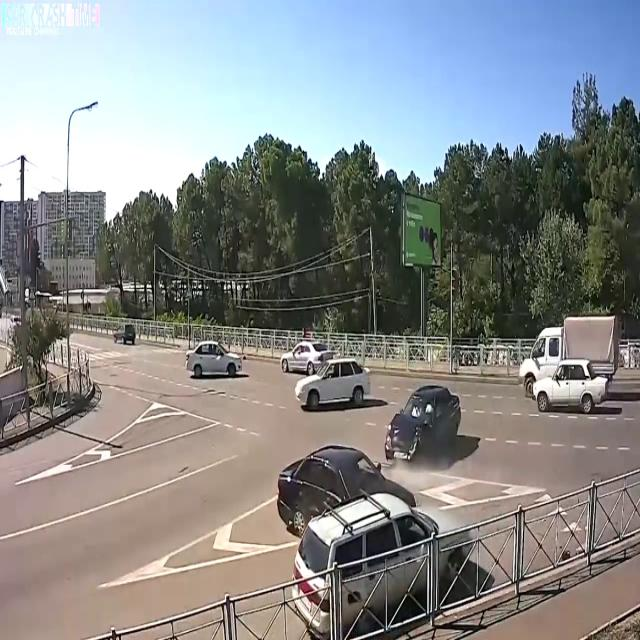Accident: (282, 384, 470, 534)
